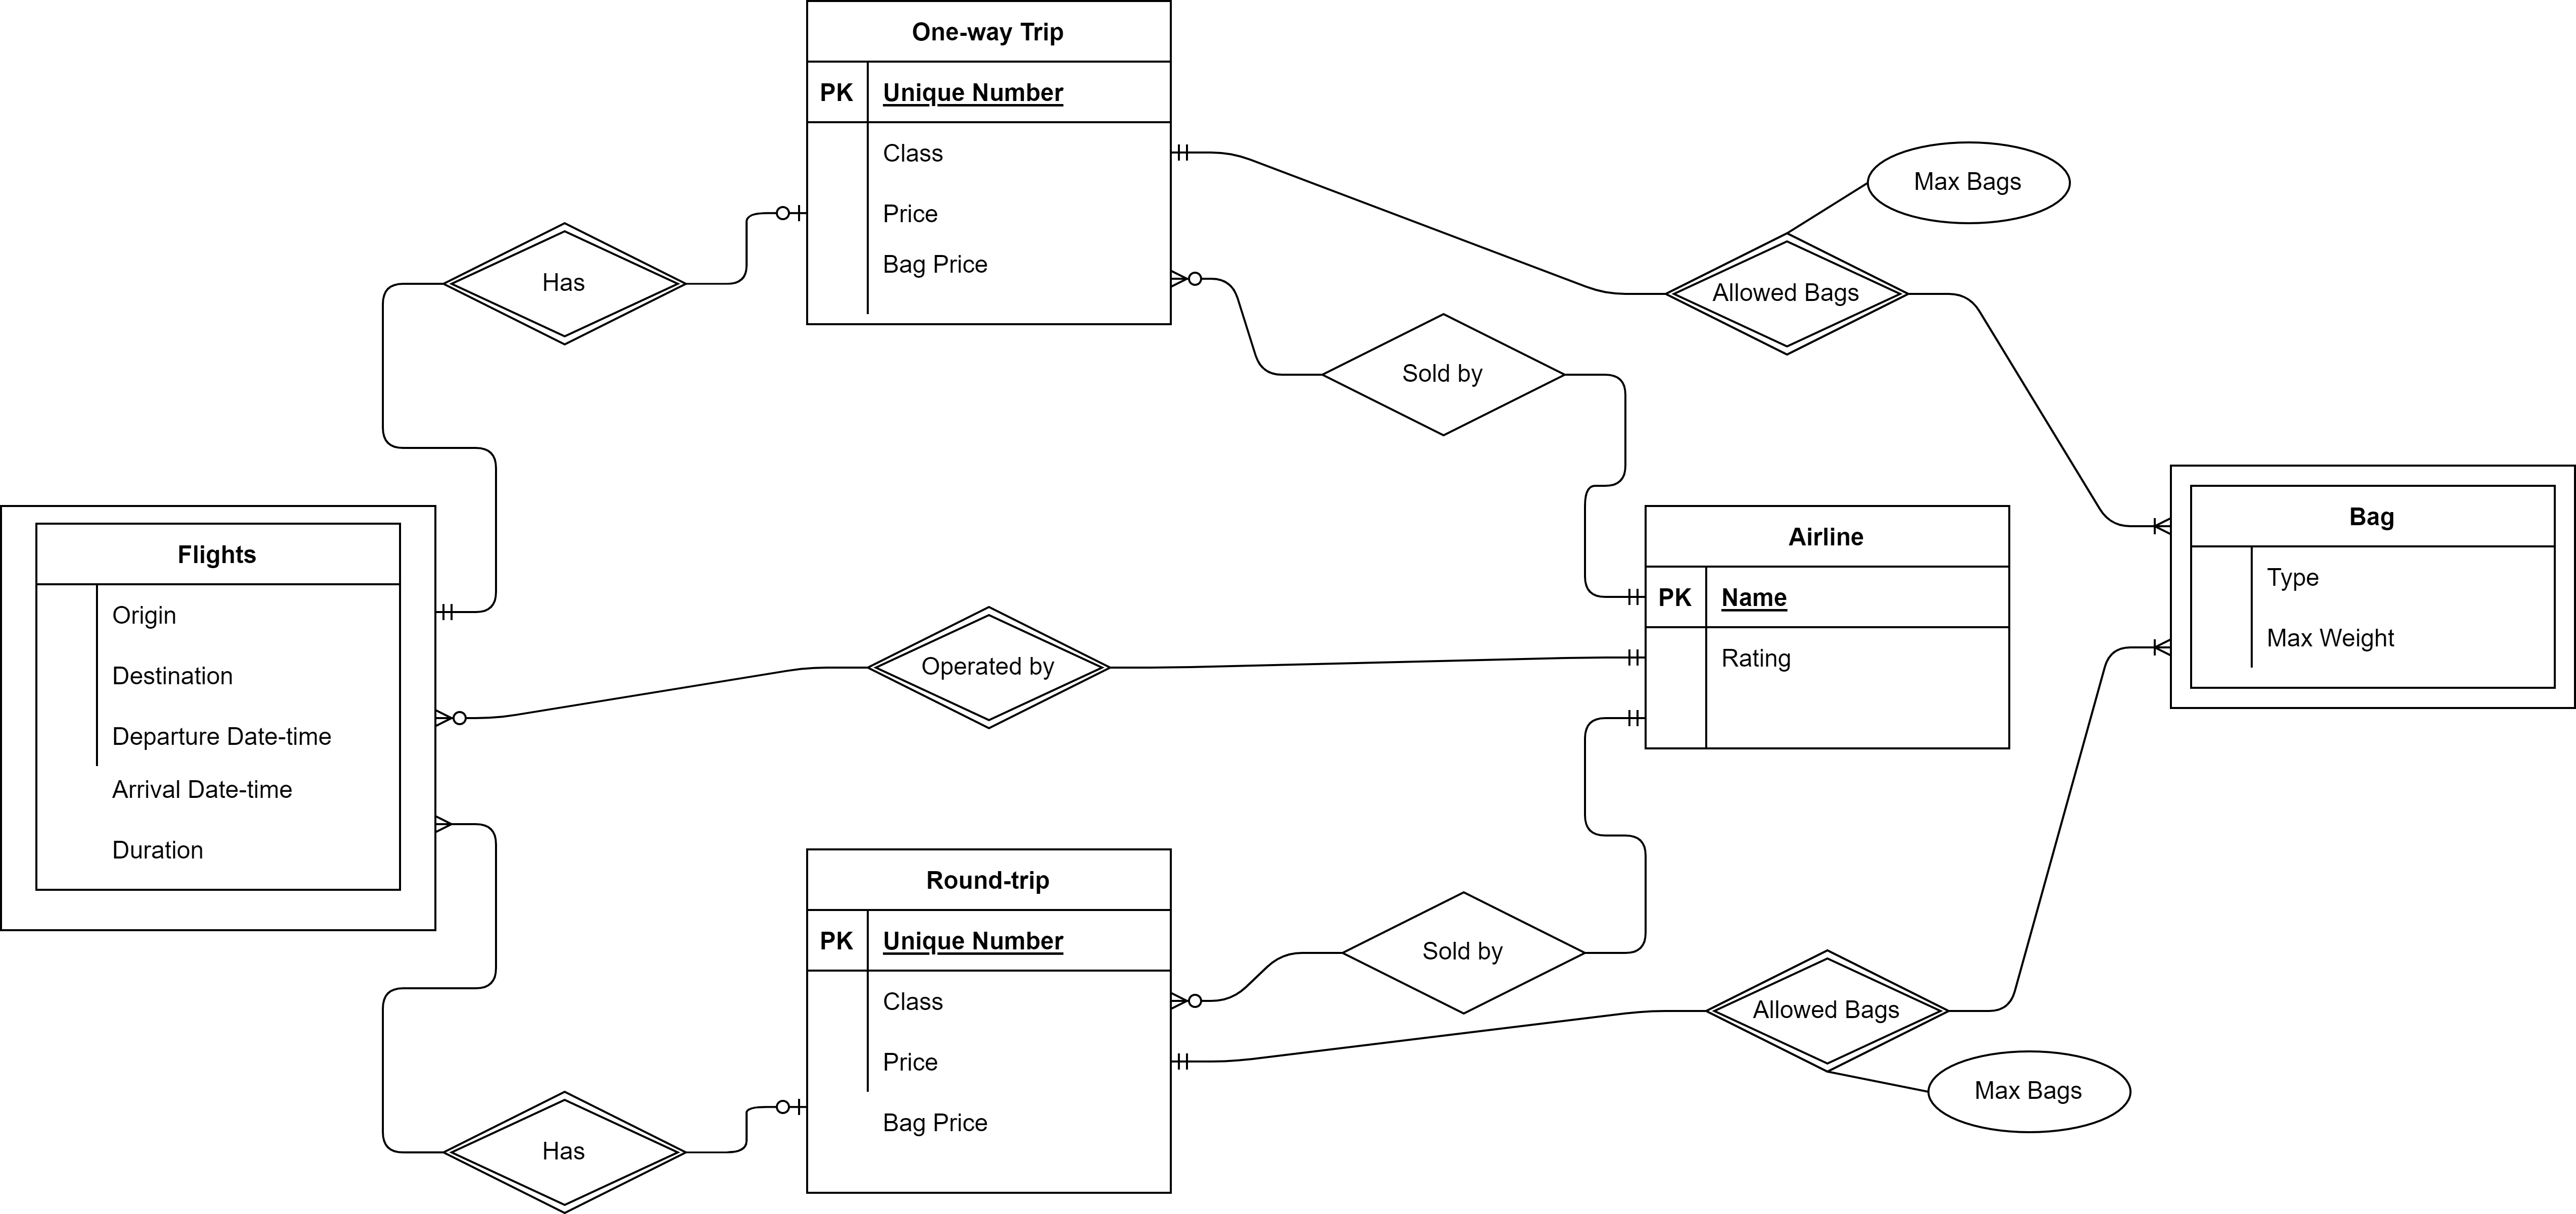entity: (808, 848, 1173, 1196), (802, 0, 1168, 329), (1646, 501, 2011, 749)
ident_rel: (1705, 936, 1942, 1073), (1664, 233, 1911, 360), (867, 606, 1109, 726), (448, 1094, 690, 1214), (450, 220, 687, 340)
many: (432, 685, 509, 743), (429, 798, 503, 846), (1168, 248, 1232, 302), (2106, 496, 2172, 549), (1165, 969, 1219, 1019), (2118, 624, 2172, 670)
one: (1168, 1040, 1237, 1088), (1171, 126, 1232, 177), (754, 1084, 807, 1134), (1589, 631, 1644, 677), (746, 189, 805, 230), (1585, 700, 1648, 733), (1592, 575, 1641, 609), (435, 600, 488, 626)
rel: (1322, 309, 1569, 434), (1347, 892, 1589, 1014)
rel_attr: (1868, 140, 2073, 223), (1929, 1051, 2131, 1135)
weak_entity: (3, 503, 439, 933), (2170, 463, 2576, 705)
